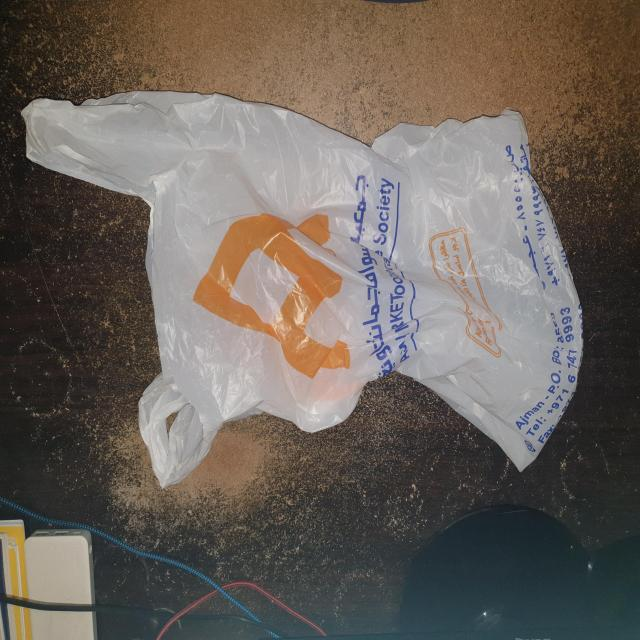plastic bag: (24, 88, 588, 488)
